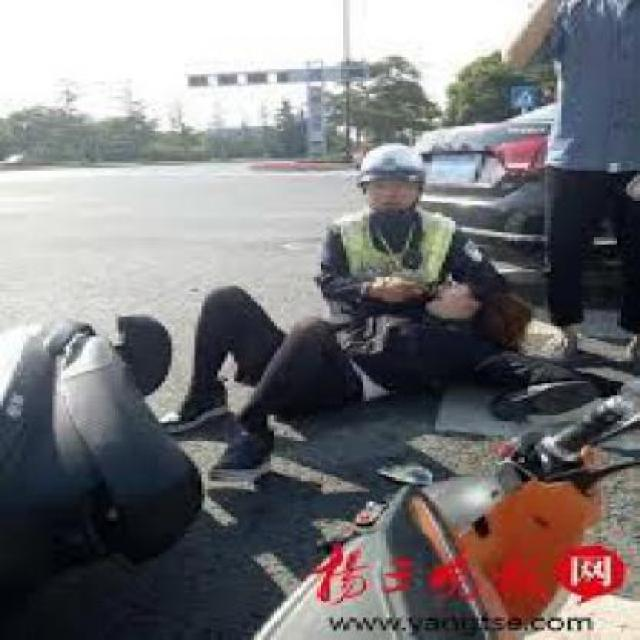fall: (129, 259, 574, 459)
